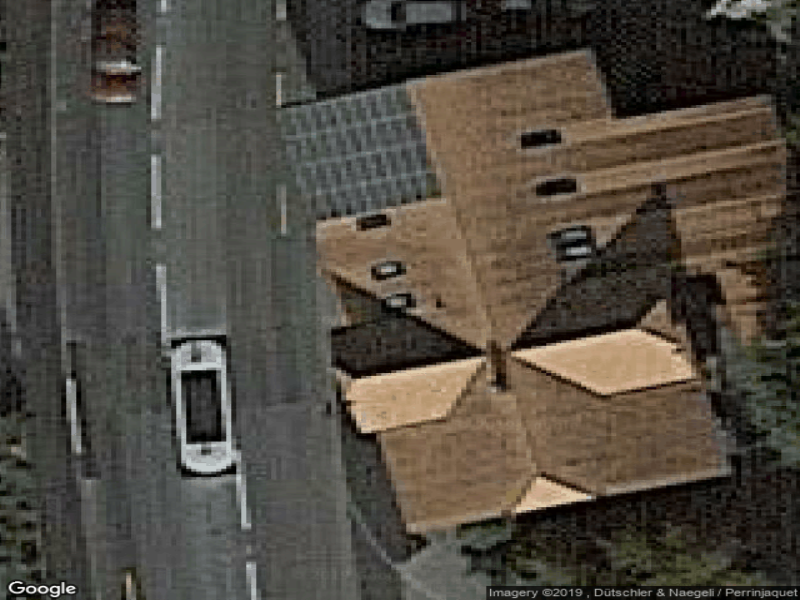pv: (279, 85, 445, 221)
